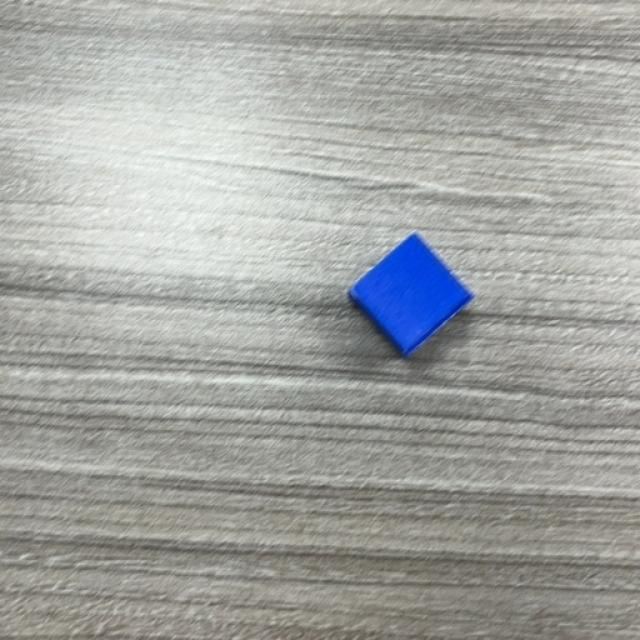Azul: (346, 234, 475, 359)
